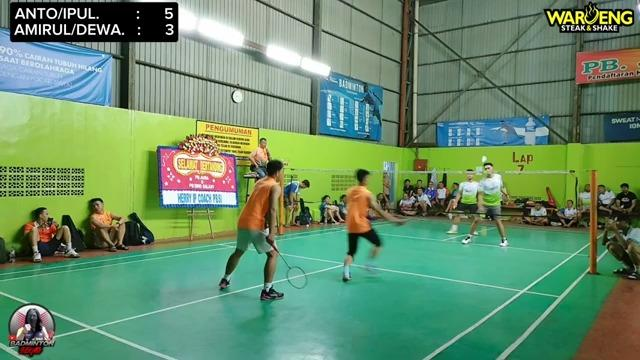Shuttlecock: (478, 155, 488, 163)
